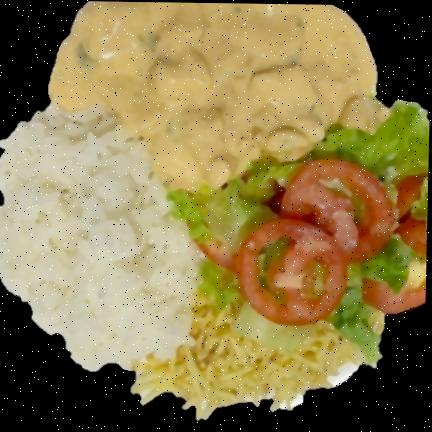chicken: (49, 1, 387, 191)
potato: (133, 295, 364, 420)
rice: (0, 106, 197, 371)
salad: (310, 103, 429, 227), (168, 162, 306, 251), (354, 231, 424, 294), (333, 291, 379, 363), (236, 307, 309, 350), (200, 258, 237, 308)
tomato: (235, 160, 394, 325)
